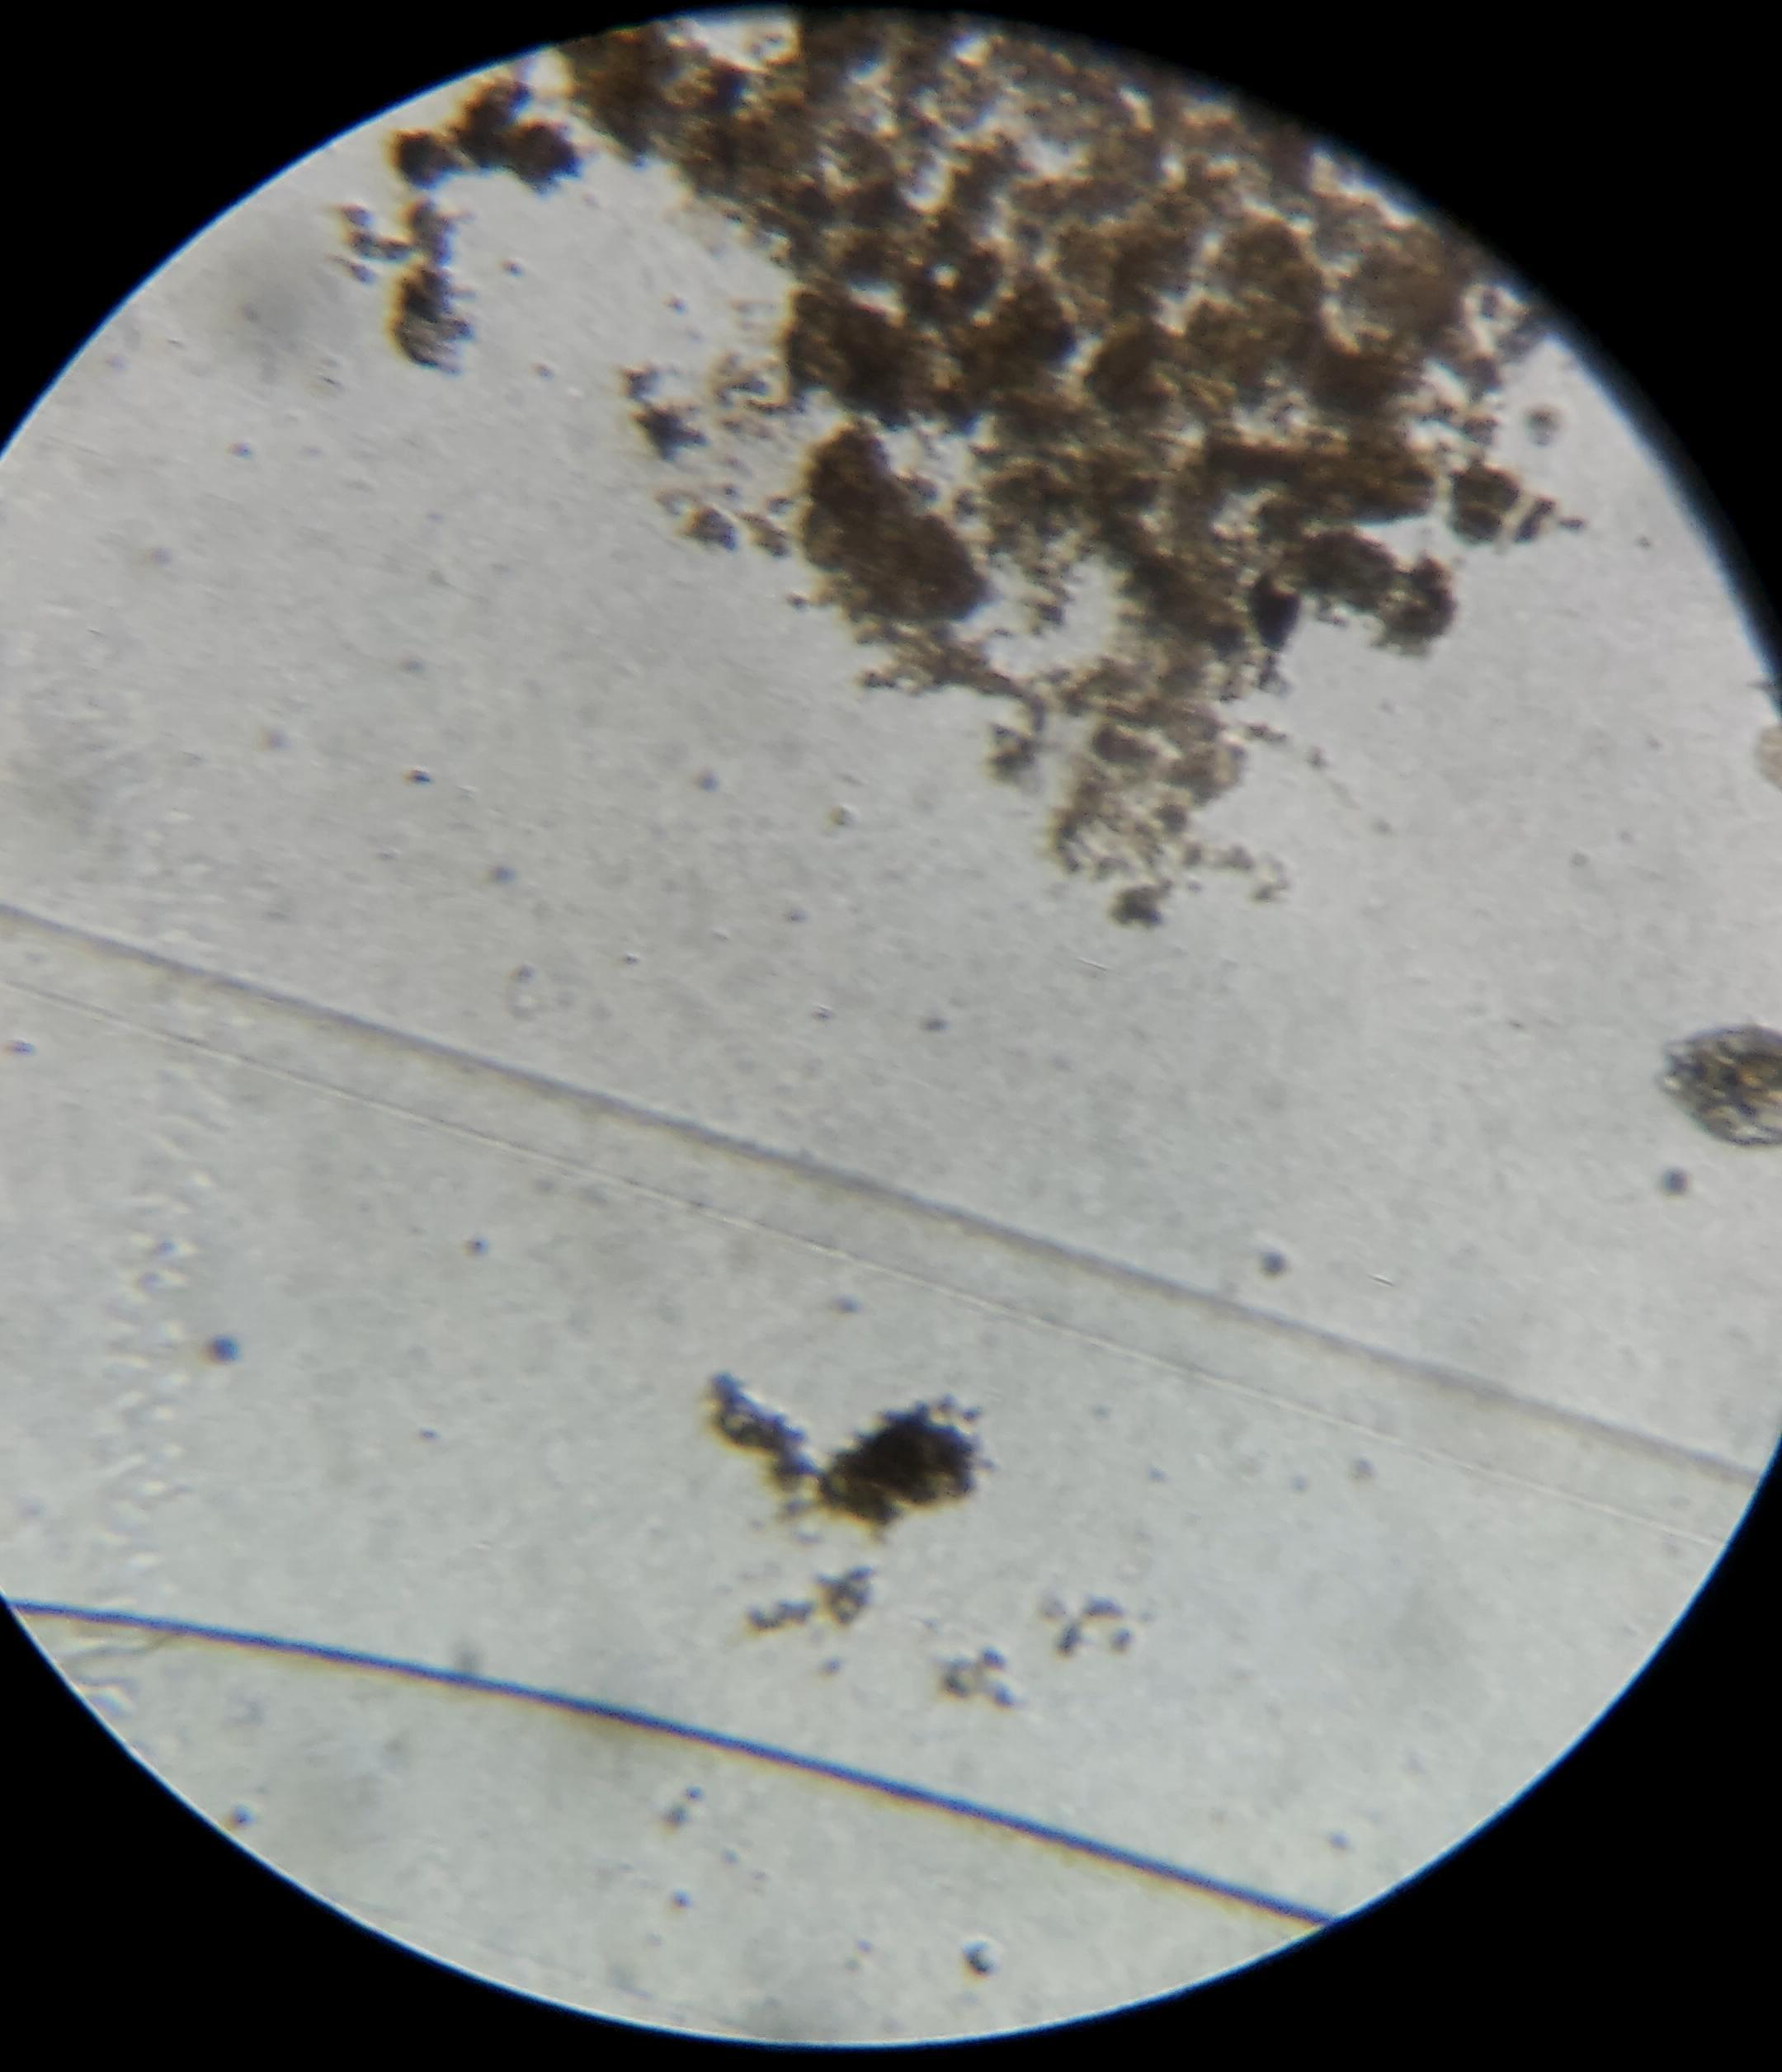Mo: (1655, 1031, 1782, 1145)
